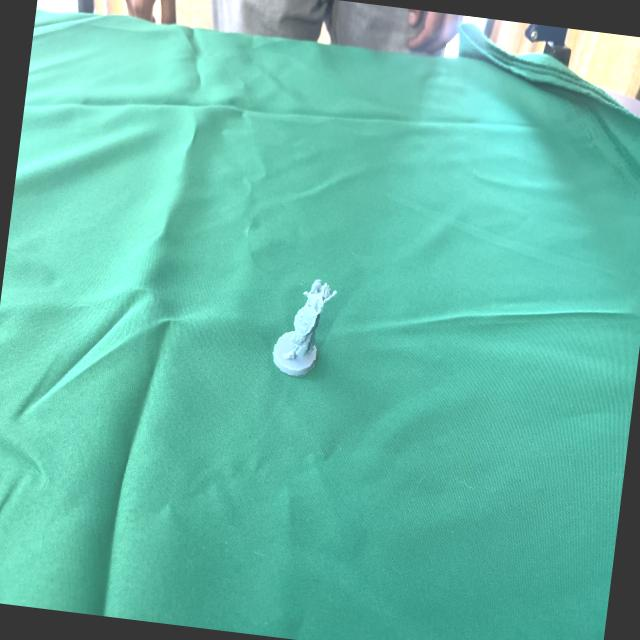isis_follower: (267, 266, 341, 382)
